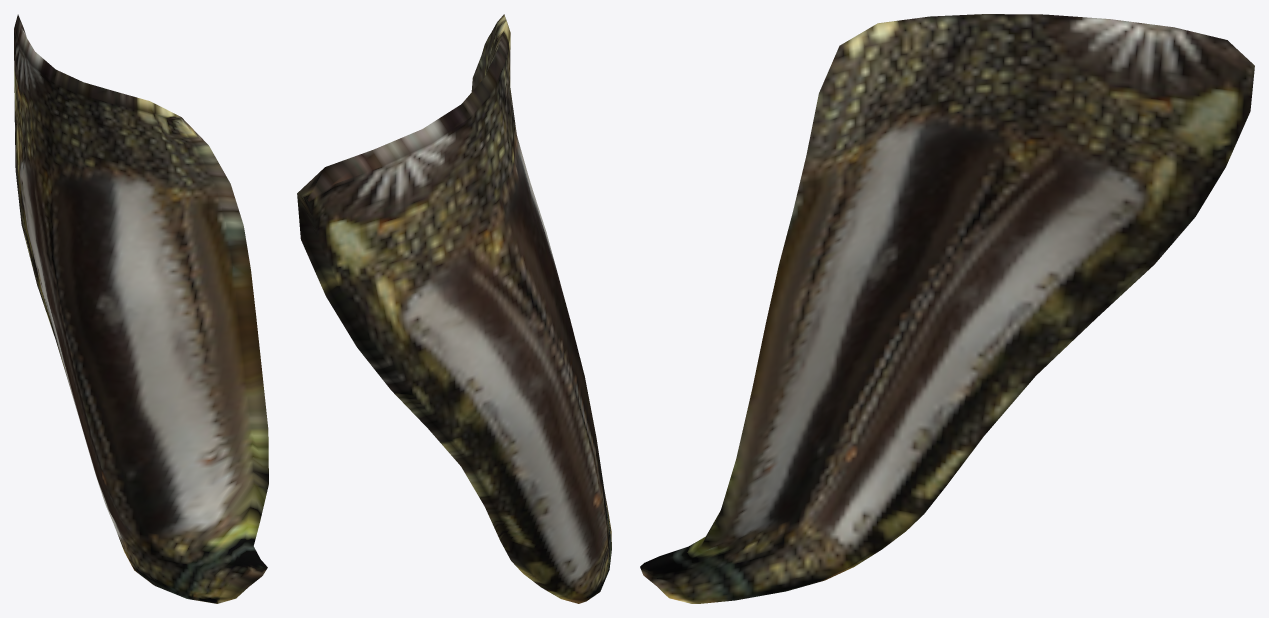
Rendered from armor_kote_L.fbx.
3 views of the same model, side by side, from view 1: azimuth 30°, elevation 25°; view 2: azimuth 150°, elevation 25°; view 3: azimuth 270°, elevation 25° (orthographic). The views are drawn at different scales.
Parts seen in each view (by area): view 1: armor_kote_L; view 2: armor_kote_L; view 3: armor_kote_L.
Part boxes in pixels (bbox=[...]): armor_kote_L: bbox=[14, 14, 268, 603]; armor_kote_L: bbox=[297, 14, 611, 603]; armor_kote_L: bbox=[640, 14, 1254, 603].
Size of the model in its own units: 9.32 by 31.73 by 30.04.
Materials: 1 (1 with a texture image).
